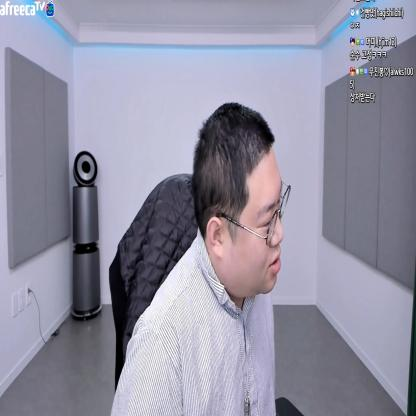streamer: (109, 102, 292, 416)
